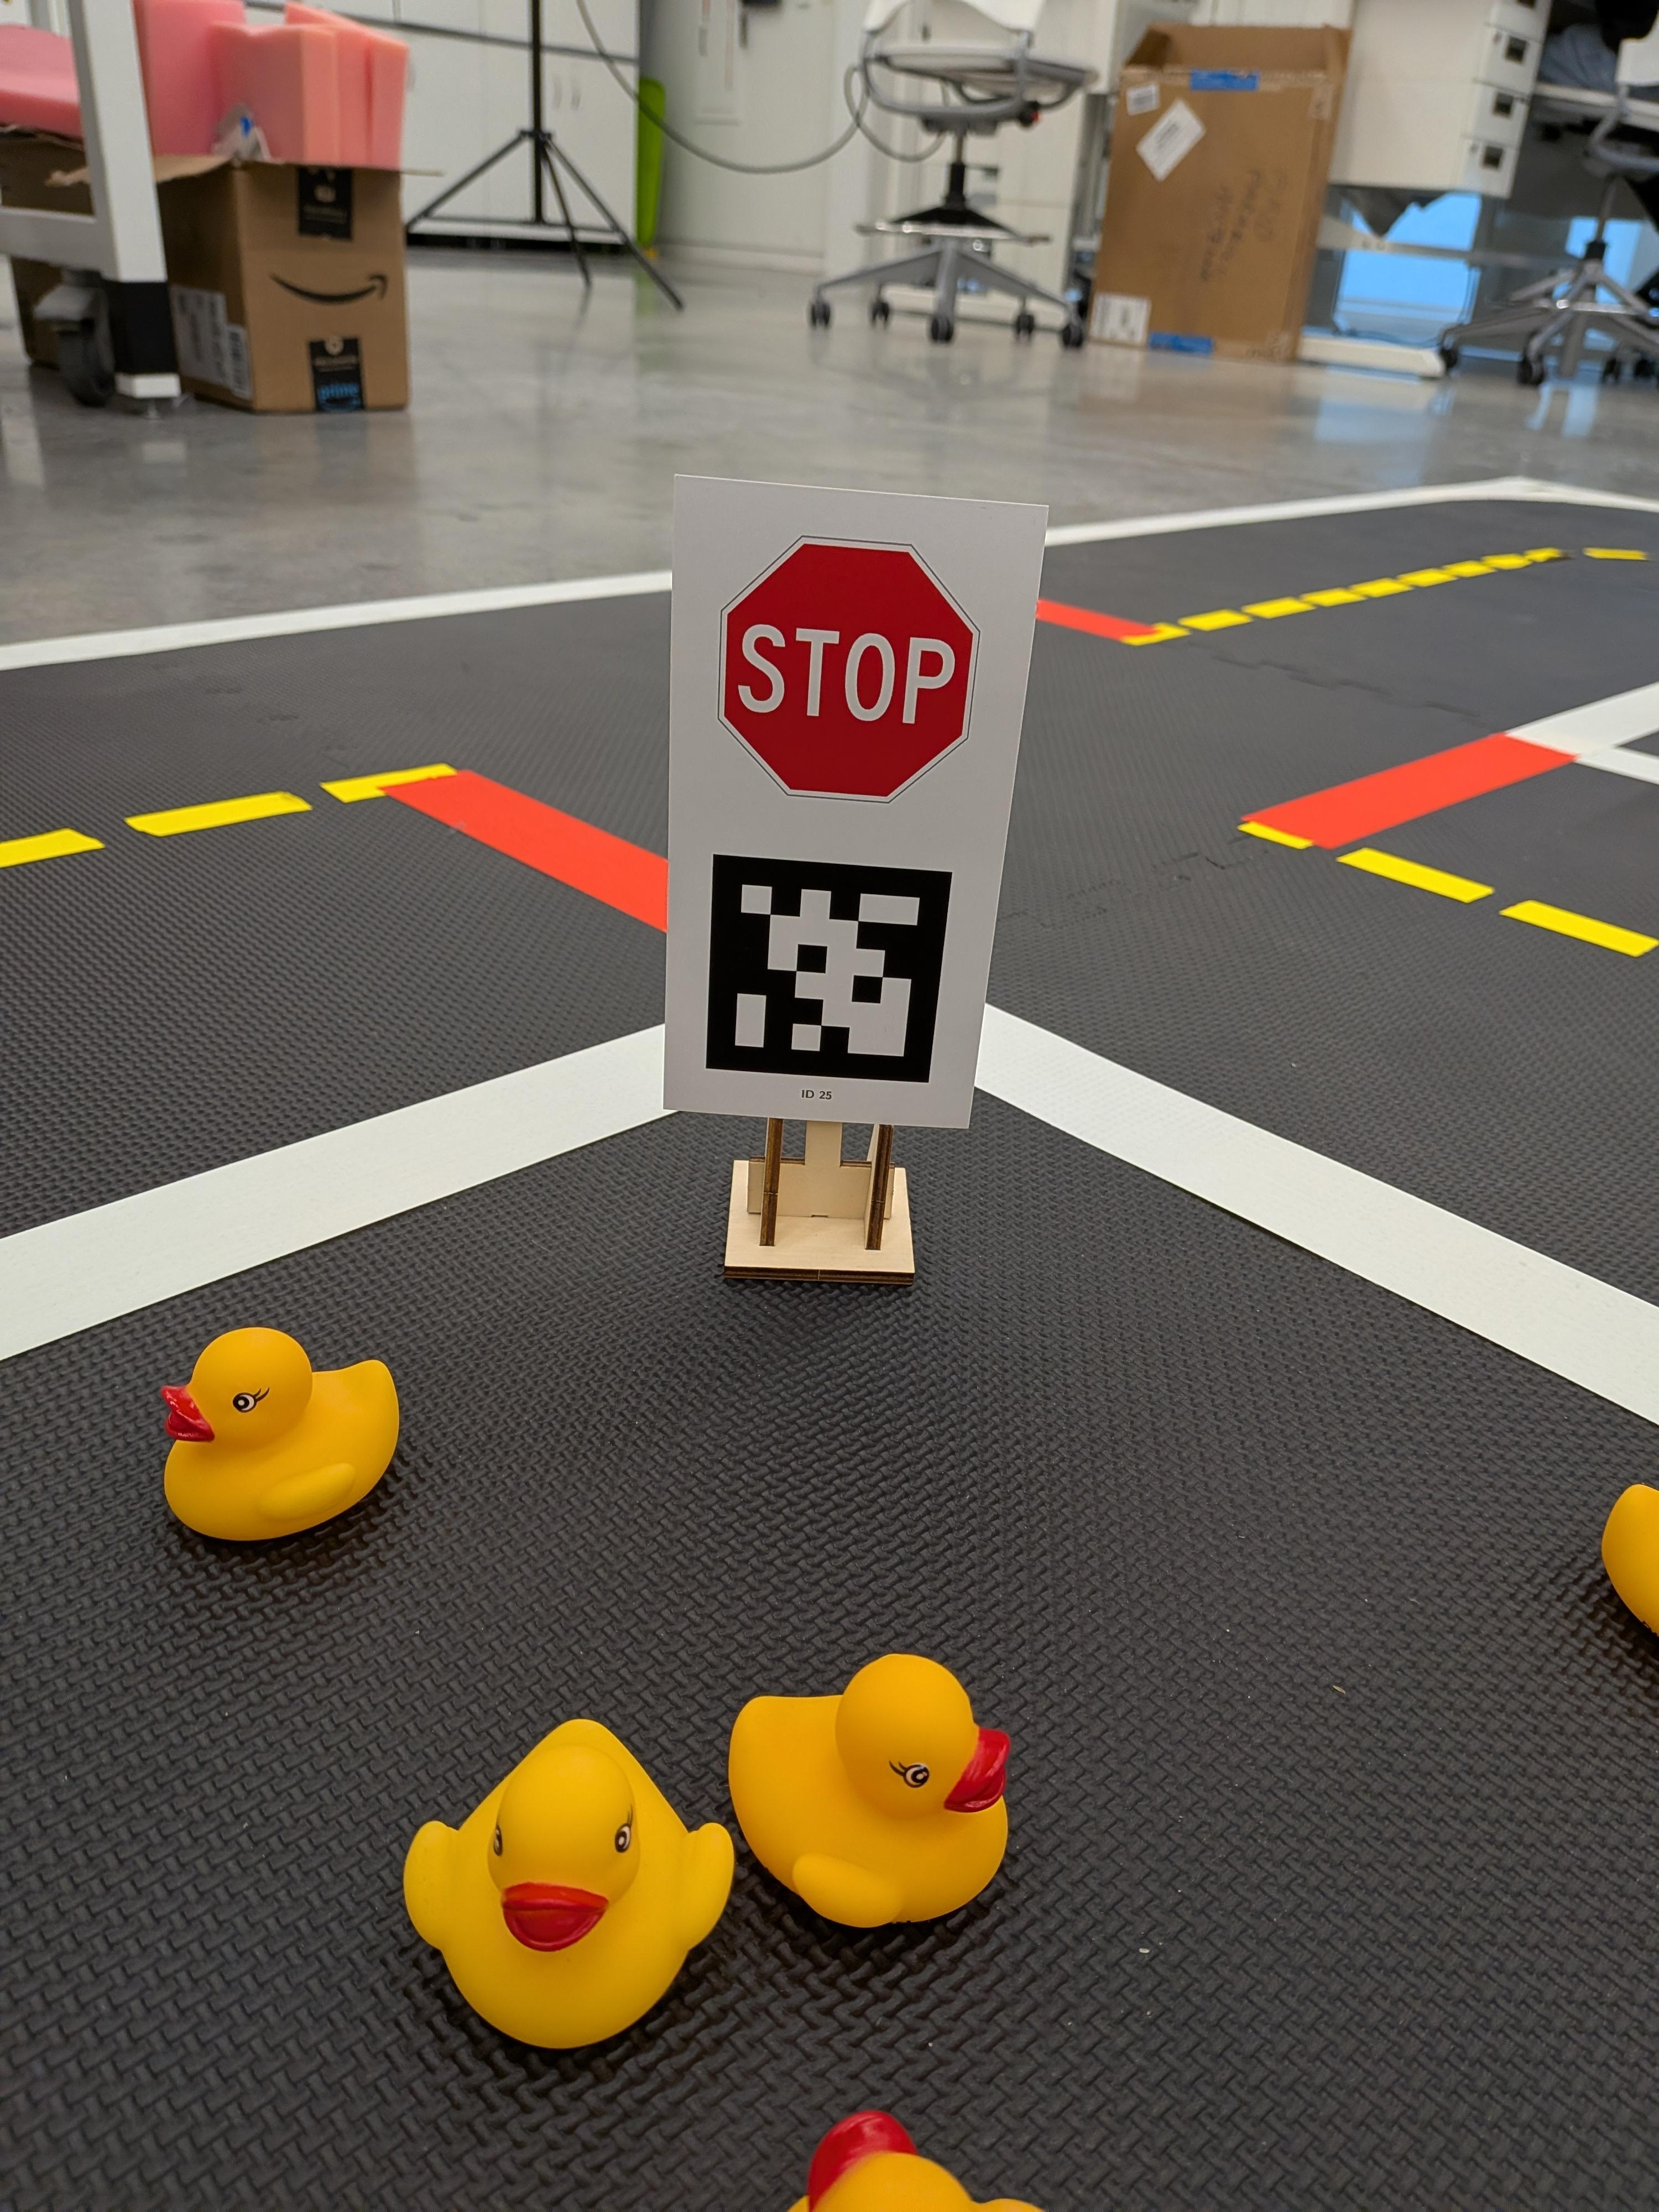peasant: (401, 1705, 739, 2052), (721, 1653, 1018, 1930), (155, 1324, 404, 1552), (796, 2104, 1040, 2212), (1598, 1472, 1659, 1648)
stopbar: (376, 768, 669, 942), (1243, 732, 1574, 850), (1033, 599, 1161, 646)
whiteline: (976, 1003, 1659, 1435), (9, 1022, 669, 1371), (1513, 674, 1659, 787)
yellowline: (1122, 545, 1659, 646), (1244, 824, 1659, 954), (0, 761, 451, 867)
